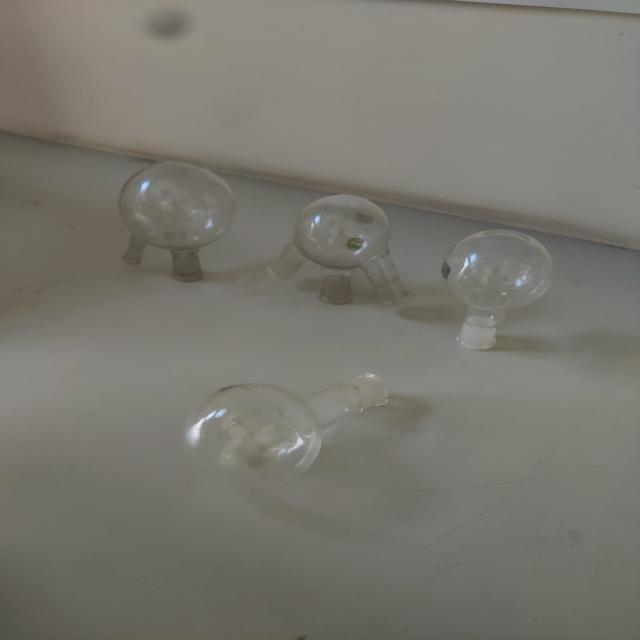Round_Bottom_Flask_Borosilicate_Glass_1_Neck: (165, 346, 406, 506), (430, 197, 576, 368)
Round_Bottom_Flask_Borosilicate_Glass_2_Neck: (105, 135, 251, 293)
Round_Bottom_Flask_Borosilicate_Glass_3_Neck: (254, 156, 425, 342)
